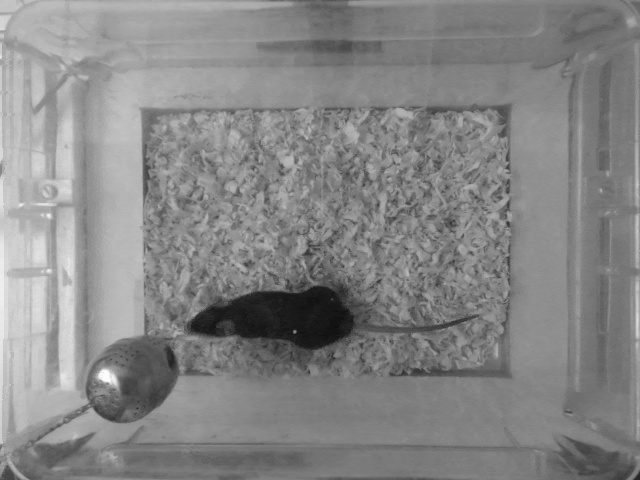mice: (184, 284, 484, 355)
